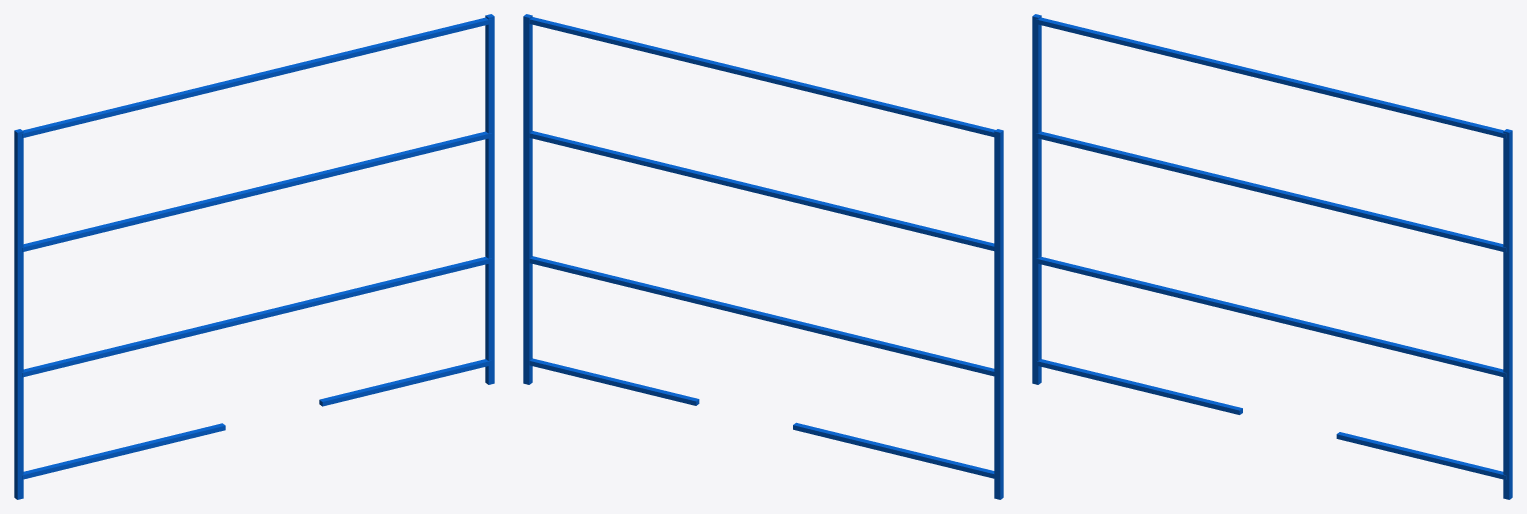
File: S_01_Front_Wall_02_Metal.fbx
3 views of the same model, side by side, from view 1: azimuth 30°, elevation 25°; view 2: azimuth 150°, elevation 25°; view 3: azimuth 330°, elevation 25° (orthographic).
Parts seen in each view (by area): view 1: S_01_Front_Wall_02_Metal; view 2: S_01_Front_Wall_02_Metal; view 3: S_01_Front_Wall_02_Metal.
Boxes of the visible parts, x1,y1,x2,y2 form: S_01_Front_Wall_02_Metal: (14, 14, 494, 499); S_01_Front_Wall_02_Metal: (523, 14, 1003, 499); S_01_Front_Wall_02_Metal: (1032, 14, 1512, 499).
Size of the model in its own units: 1228 by 902 by 16.19.
